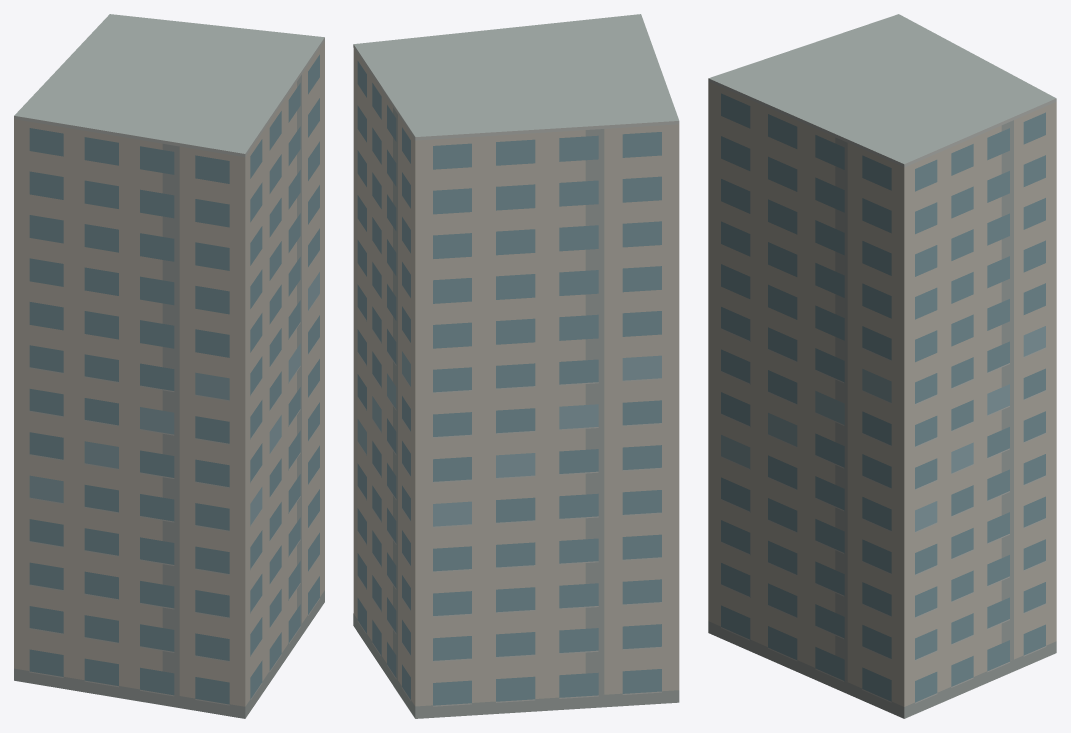
File: residential-038c2c2c-725b-4377-9752-cffd222ceea5.glb
3 renders of one model, left to right at view 1: azimuth 30°, elevation 25°; view 2: azimuth 150°, elevation 25°; view 3: azimuth 270°, elevation 25°, orthographic. The views are drawn at different scales.
Visible parts, largest first — view 1: residential-038c2c2c-725b-4377-9752-cffd222ceea5.tmp; view 2: residential-038c2c2c-725b-4377-9752-cffd222ceea5.tmp; view 3: residential-038c2c2c-725b-4377-9752-cffd222ceea5.tmp.
Boxes of the visible parts, <box> form: residential-038c2c2c-725b-4377-9752-cffd222ceea5.tmp: <box>14,14,324,718</box>; residential-038c2c2c-725b-4377-9752-cffd222ceea5.tmp: <box>353,14,679,718</box>; residential-038c2c2c-725b-4377-9752-cffd222ceea5.tmp: <box>708,14,1056,718</box>.
Bounding box in the file's own units: 23.83 × 41 × 23.33.
